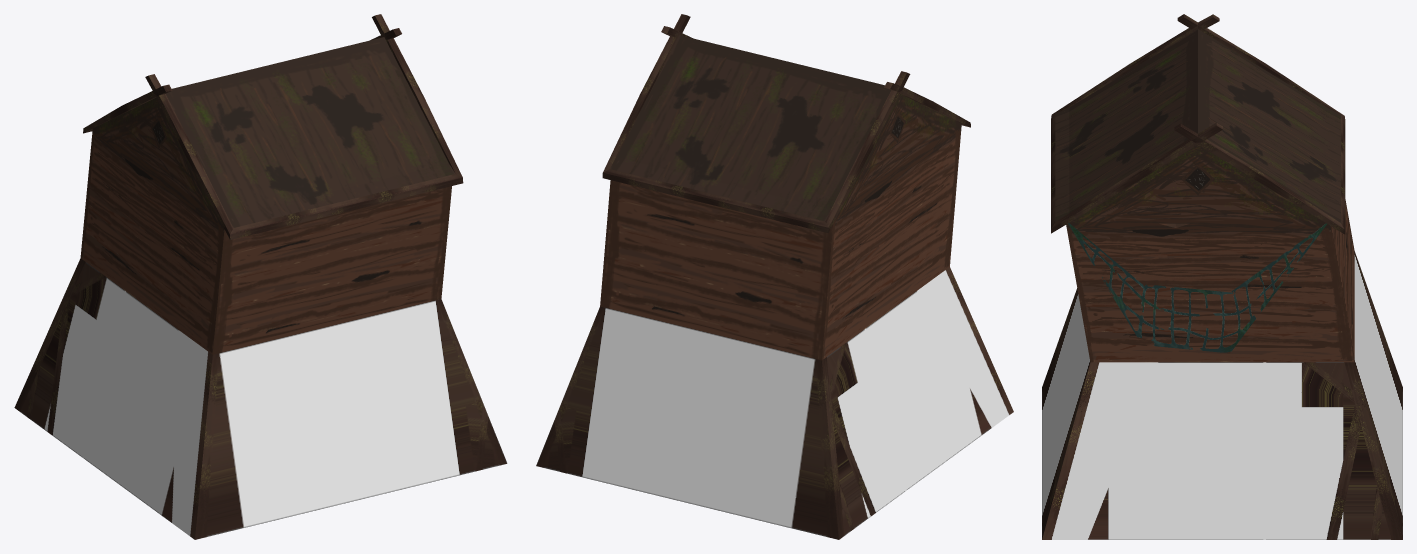
File: House04.fbx
3 views of the same model, side by side, from view 1: azimuth 30°, elevation 25°; view 2: azimuth 150°, elevation 25°; view 3: azimuth 270°, elevation 25° (orthographic). The views are drawn at different scales.
Visible parts, largest first — view 1: House04; view 2: House04; view 3: House04.
Part boxes in pixels (x1,y1,x2,y2): House04: (14,14,507,539); House04: (536,14,1013,539); House04: (1042,14,1402,539).
Size of the model in its own units: 5.89 by 7.13 by 5.89.
Materials: 3 (3 with a texture image).
